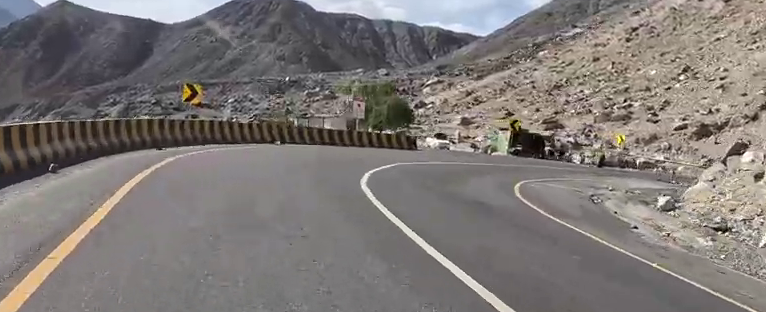stright: (135, 81, 619, 273)
